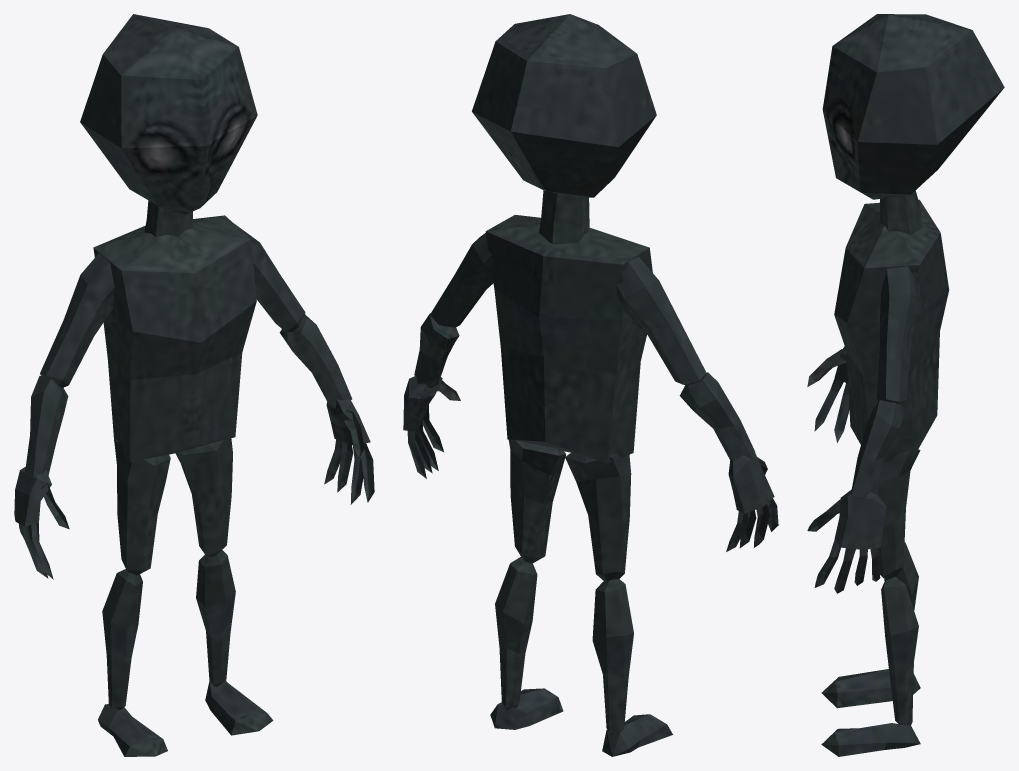
File: monster 3.fbx
3 renders of one model, left to right at view 1: azimuth 30°, elevation 25°; view 2: azimuth 150°, elevation 25°; view 3: azimuth 270°, elevation 25°, orthographic. The views are drawn at different scales.
Visible parts, largest first — view 1: Alien; view 2: Alien; view 3: Alien.
Boxes of the visible parts, <box> form: Alien: <box>14,14,374,756</box>; Alien: <box>403,14,778,756</box>; Alien: <box>807,14,1004,756</box>.
Size of the model in its own units: 277 by 532 by 134.
